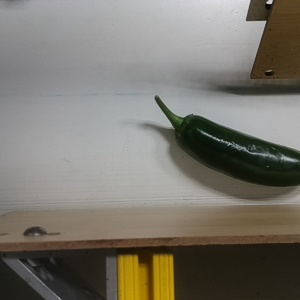Cut Point: (165, 108, 206, 148)
